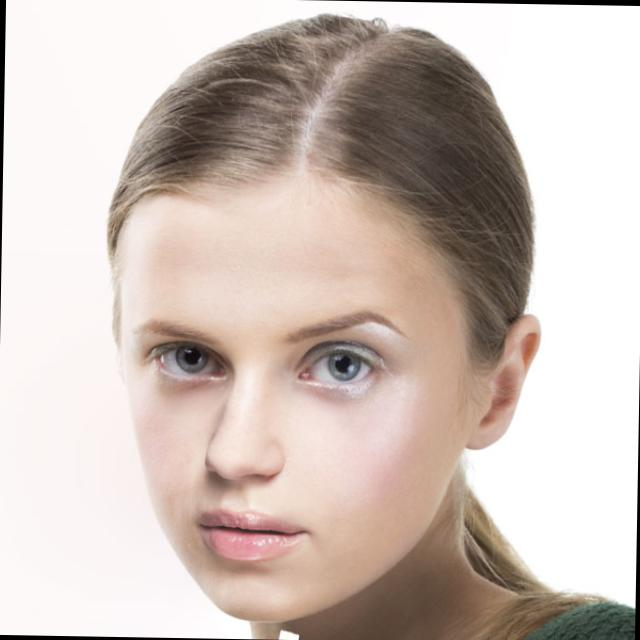face: (90, 118, 540, 626)
